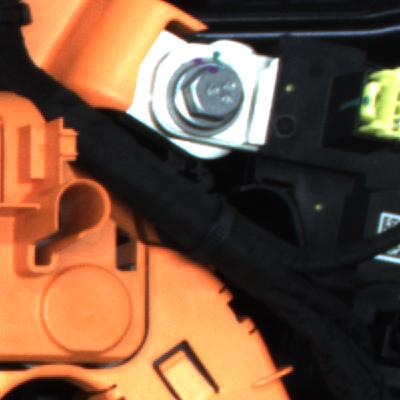nut_b: (163, 57, 264, 146)
